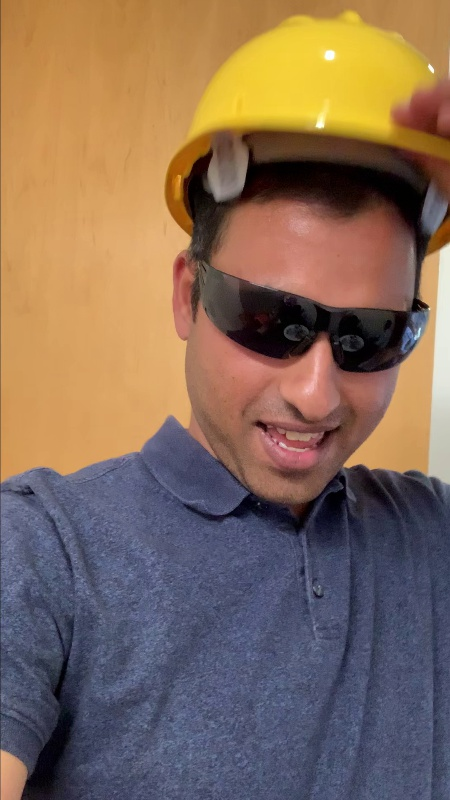glasses: (194, 252, 433, 387)
helmet: (162, 9, 450, 251)
